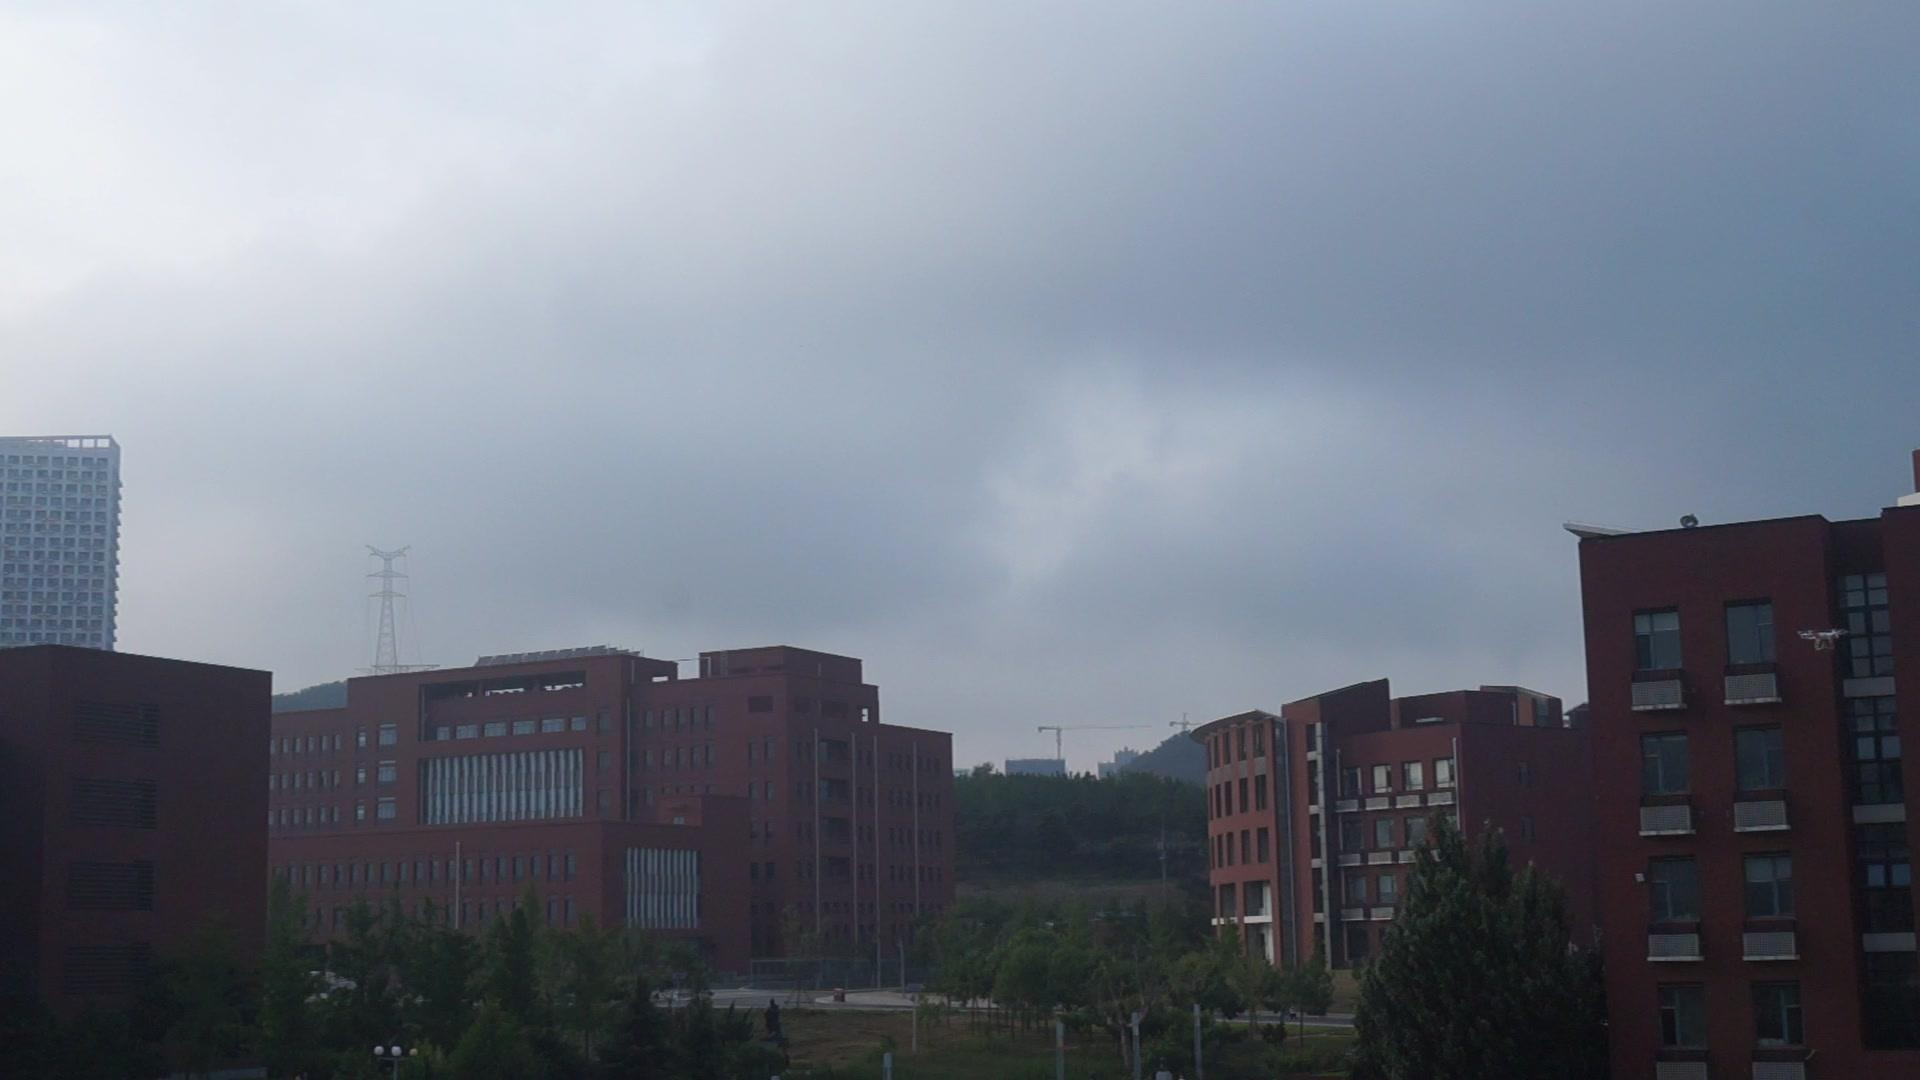UAV: (1797, 629, 1849, 651)
